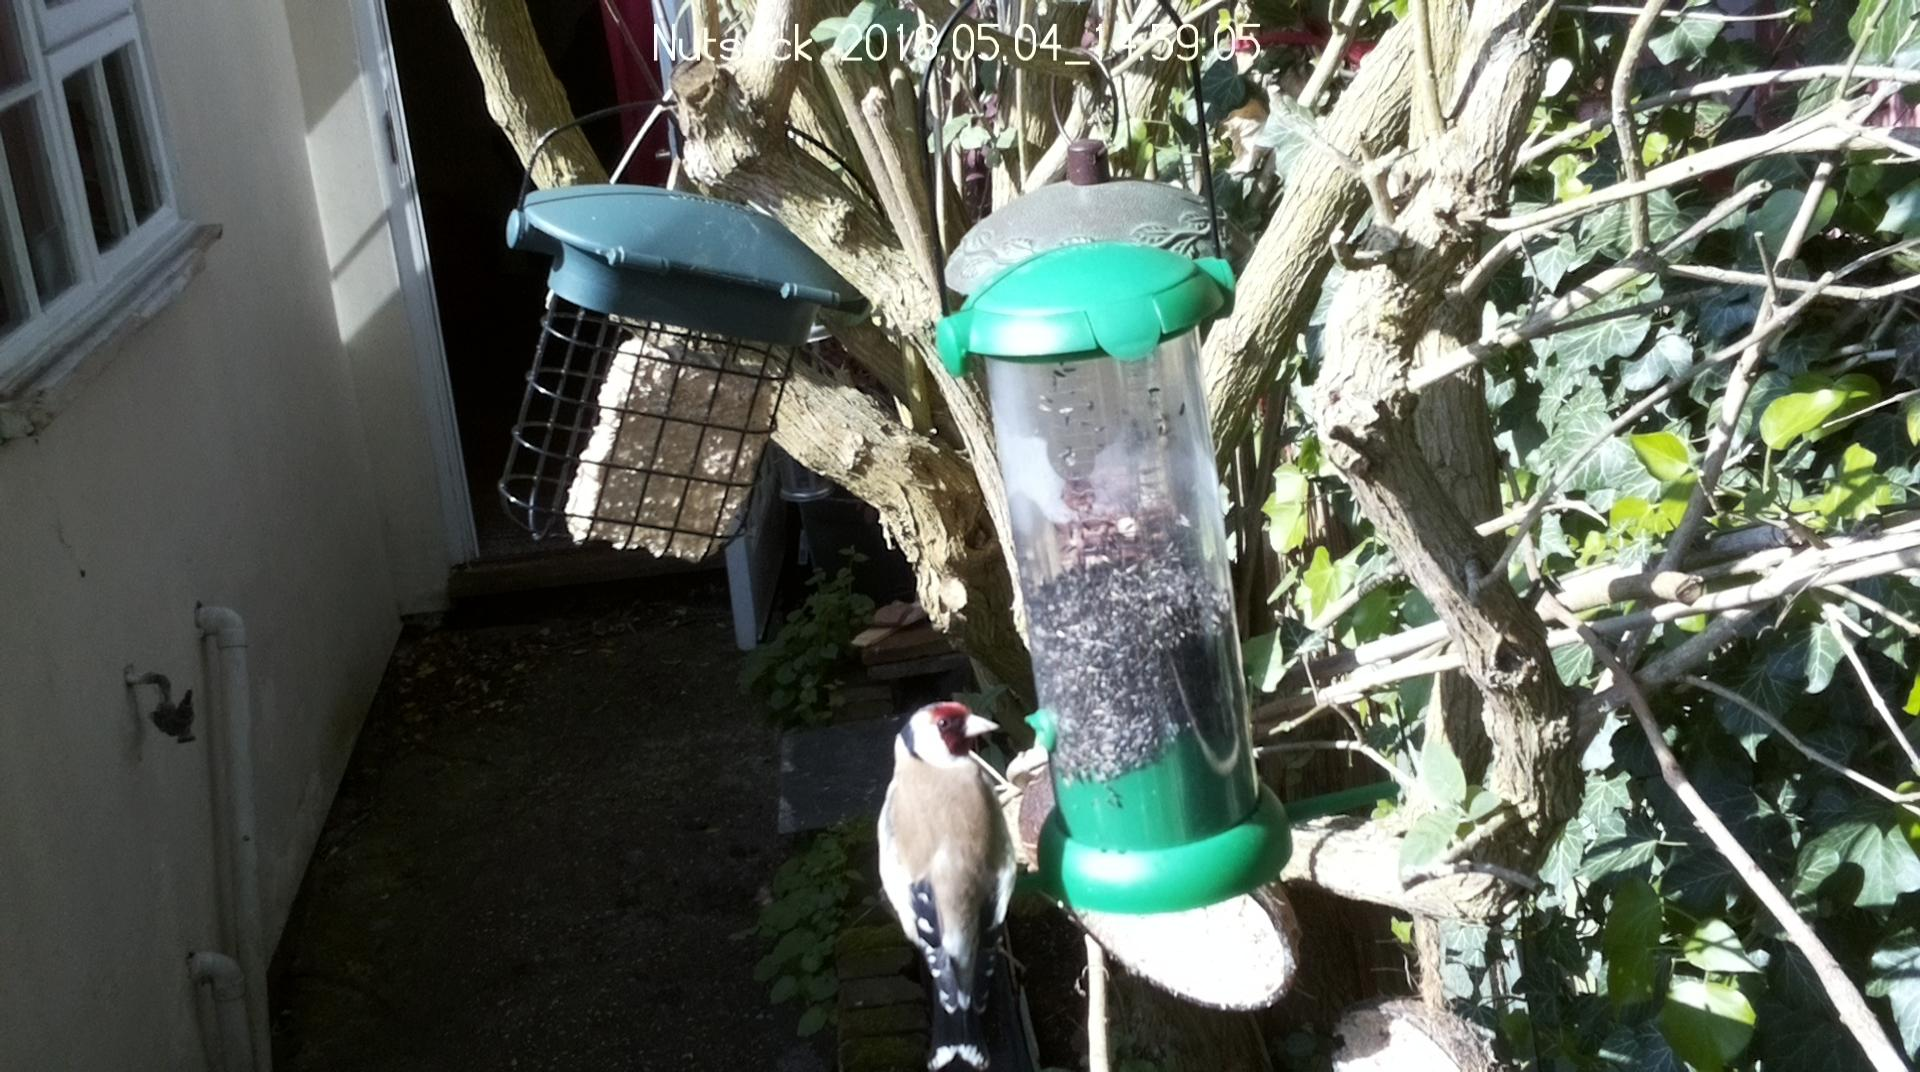goldfinch: (876, 700, 1015, 1072)
